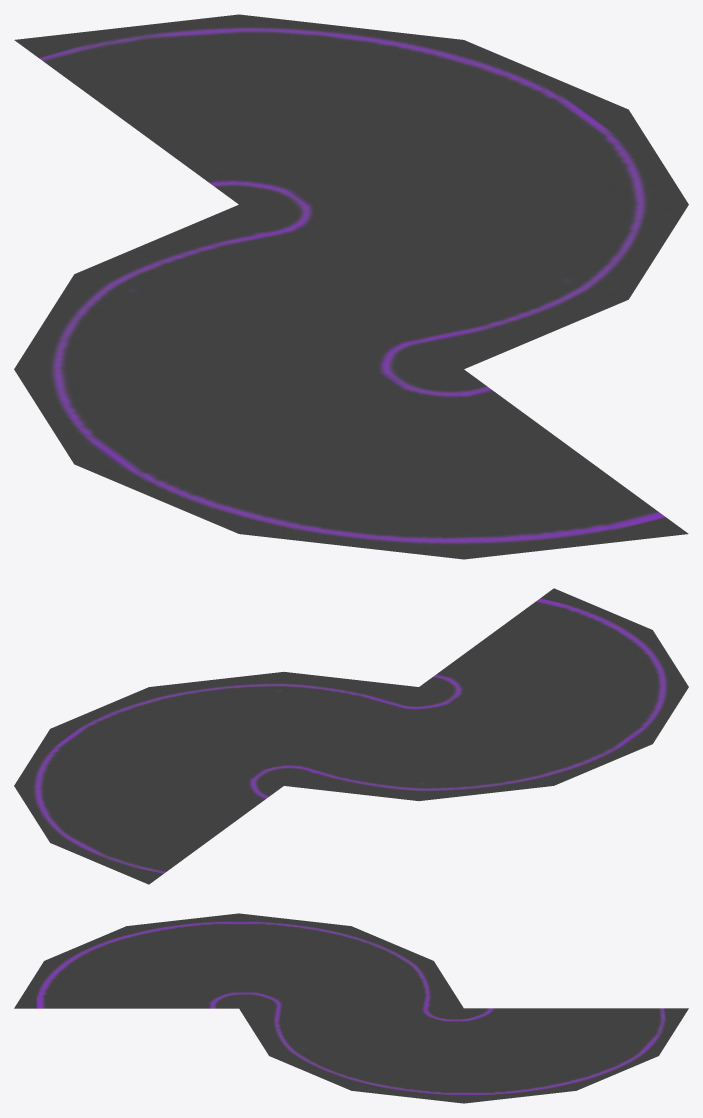
The model's file is Yuka_B_02.fbx.
3 renders of one model, top to bottom at view 1: azimuth 30°, elevation 25°; view 2: azimuth 150°, elevation 25°; view 3: azimuth 270°, elevation 25°, orthographic. The views are drawn at different scales.
Parts seen in each view (by area): view 1: Yuka_B_01:Yuka_B_01:polySurface8; view 2: Yuka_B_01:Yuka_B_01:polySurface8; view 3: Yuka_B_01:Yuka_B_01:polySurface8.
Part boxes in pixels (x1,y1,x2,y2): Yuka_B_01:Yuka_B_01:polySurface8: [14, 14, 688, 559]; Yuka_B_01:Yuka_B_01:polySurface8: [14, 588, 688, 884]; Yuka_B_01:Yuka_B_01:polySurface8: [14, 913, 688, 1103].
Size of the model in its own units: 1196 by 0 by 1794.
1 material, 1 textured.
